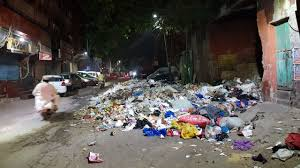garbage: (106, 82, 259, 140), (270, 137, 300, 159), (89, 153, 104, 162)
